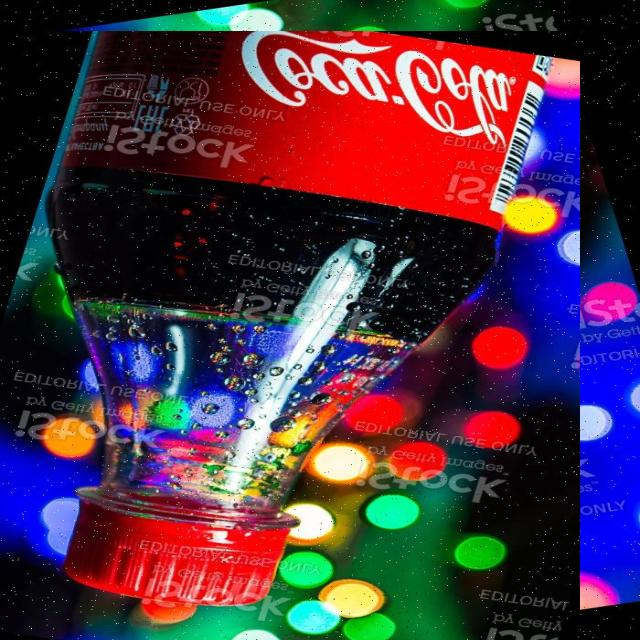coca-cola: (0, 31, 580, 640)
